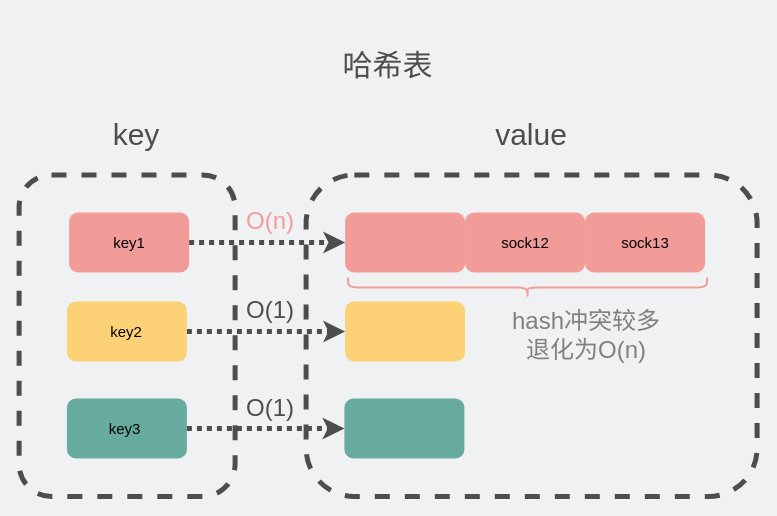
Some shapes in this 777 by 516 pixel diagram are drawn without their labels. The centre of each missing label's shape, as x and y in pixels:
sock11: the point at 405,242
sock21: the point at 405,331
sock31: the point at 404,428
